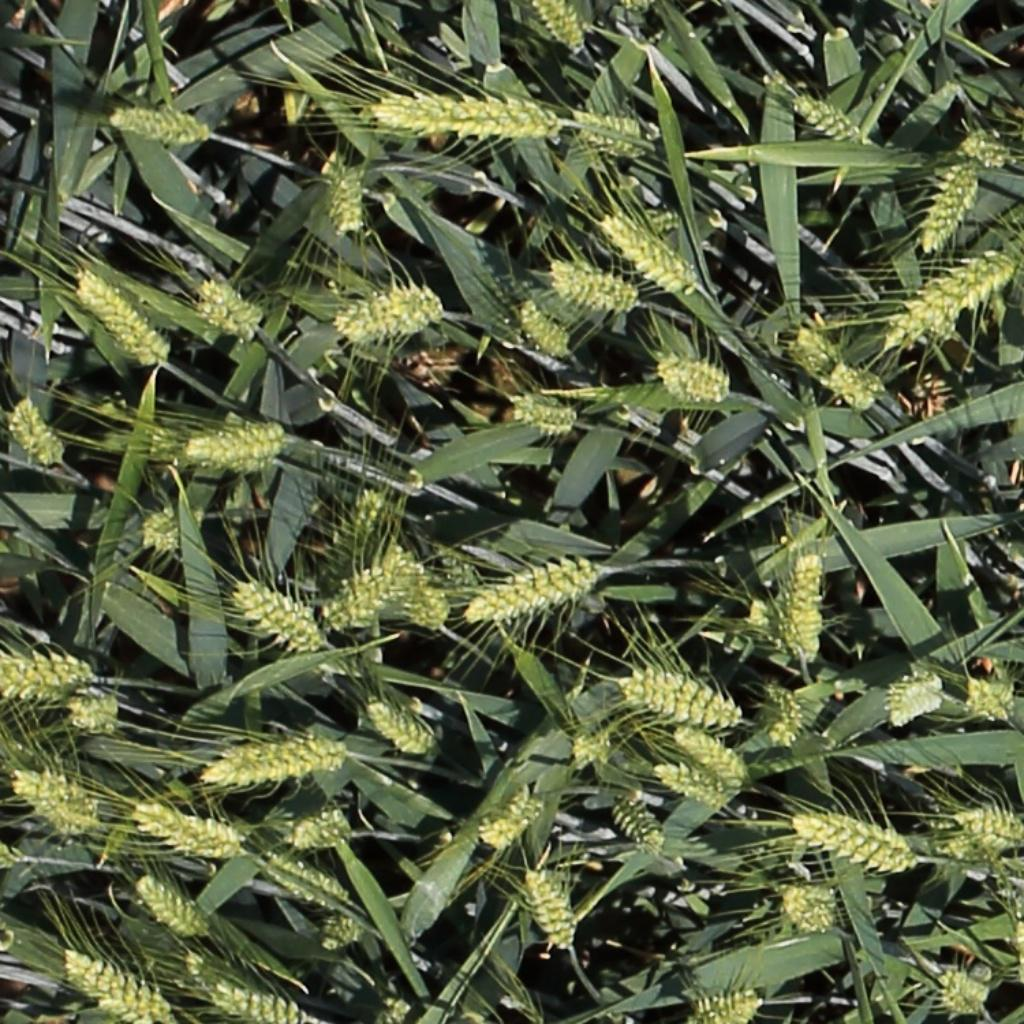0-0: (881, 247, 1022, 354), (460, 554, 612, 628), (368, 88, 570, 138), (60, 943, 179, 1024), (75, 271, 171, 370), (198, 731, 356, 789), (793, 809, 921, 875), (602, 212, 700, 298), (228, 575, 332, 654), (329, 283, 441, 347), (919, 157, 984, 267), (380, 535, 450, 637), (630, 666, 747, 726), (813, 807, 932, 865), (614, 677, 740, 730), (255, 851, 355, 916), (148, 428, 279, 477), (780, 547, 832, 669), (132, 805, 248, 859), (544, 259, 642, 314), (320, 564, 397, 633), (131, 877, 214, 938), (180, 420, 289, 466), (107, 104, 220, 148), (7, 761, 105, 811), (650, 347, 733, 406), (569, 109, 663, 161), (520, 862, 572, 953), (211, 980, 315, 1024), (671, 729, 746, 789), (791, 91, 872, 146), (365, 696, 439, 756), (8, 393, 64, 471), (815, 359, 890, 417), (881, 668, 949, 728), (0, 646, 99, 687), (755, 679, 811, 751), (477, 793, 543, 853), (953, 800, 1024, 855), (280, 806, 364, 852), (507, 388, 580, 439), (326, 163, 372, 242), (782, 321, 845, 378), (606, 794, 663, 856), (133, 500, 202, 551), (652, 767, 726, 812), (514, 297, 569, 356), (956, 124, 1020, 173), (529, 0, 584, 57), (193, 288, 256, 334), (689, 986, 765, 1024), (0, 678, 103, 706), (196, 278, 258, 324), (435, 542, 488, 593), (745, 591, 791, 647), (963, 677, 1015, 724), (67, 690, 120, 736), (350, 487, 391, 546), (780, 888, 834, 931), (937, 970, 988, 1015), (179, 945, 225, 994), (571, 726, 618, 772), (33, 799, 93, 835), (937, 838, 1001, 868), (317, 914, 364, 953), (90, 998, 154, 1024), (376, 993, 410, 1024), (1, 840, 31, 871)
